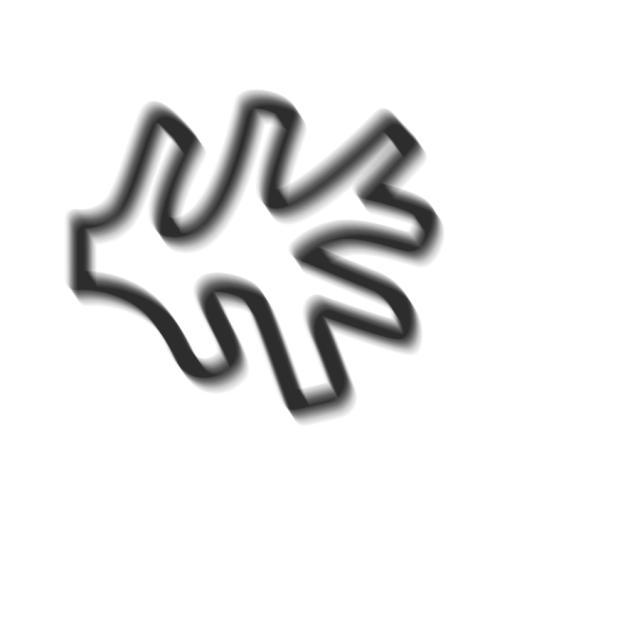coral: (60, 84, 453, 436)
